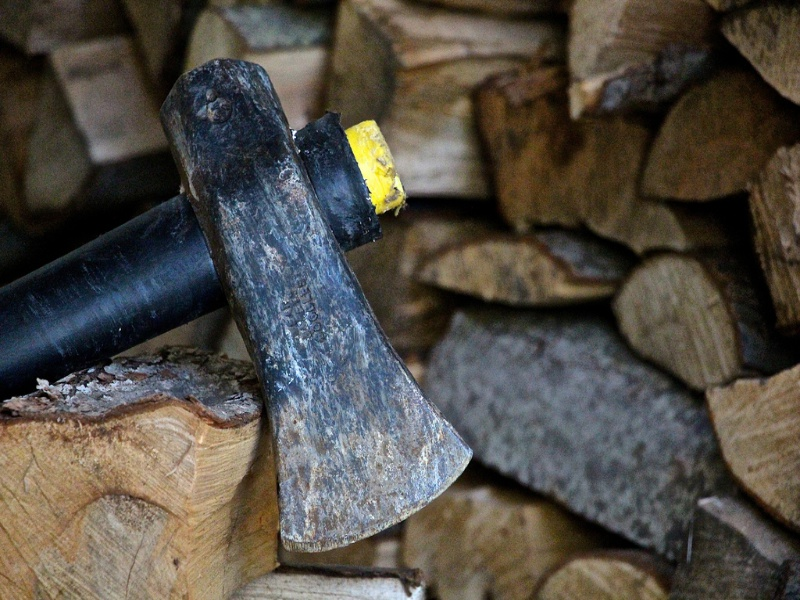axe: (39, 50, 480, 558)
